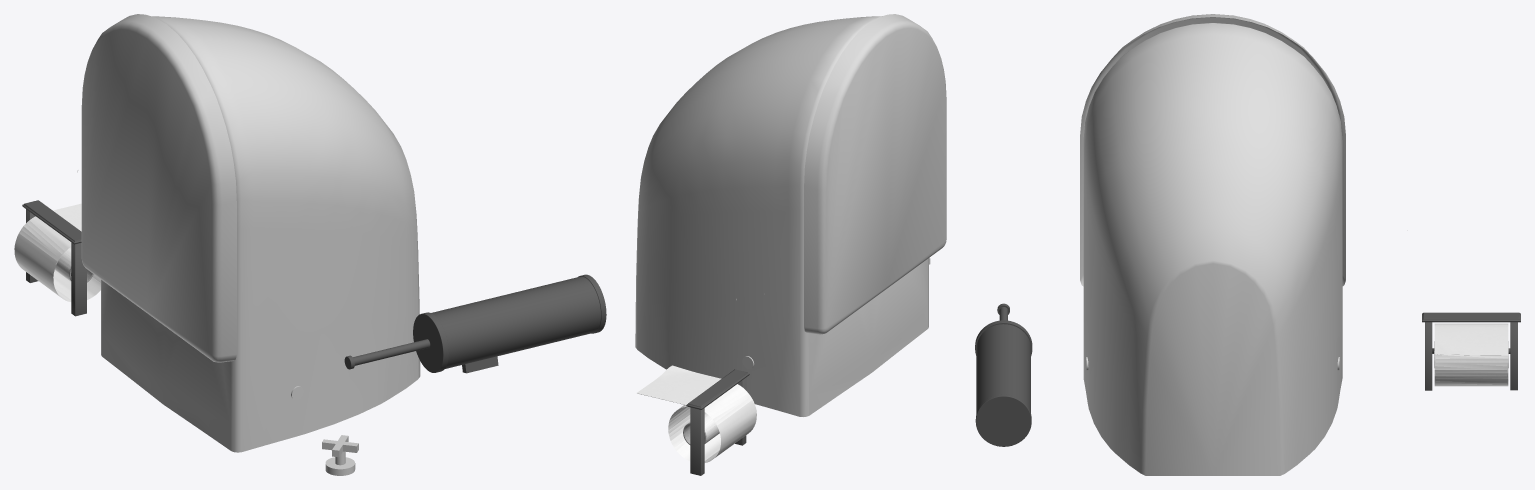
File: water.gltf
The picture shows the model from 3 angles, left to right: view 1: azimuth 30°, elevation 25°; view 2: azimuth 150°, elevation 25°; view 3: azimuth 270°, elevation 25°; orthographic projection. The views are drawn at different scales.
Visible parts, largest first — view 1: water; view 2: water; view 3: water.
Part boxes in pixels (x1,y1,x2,y2): water: [14, 14, 606, 475]; water: [635, 14, 946, 475]; water: [975, 14, 1520, 475].
Bounding box in the file's own units: 0.0117 × 0.0127 × 0.0175.
Materials: 7 (3 with a texture image).
